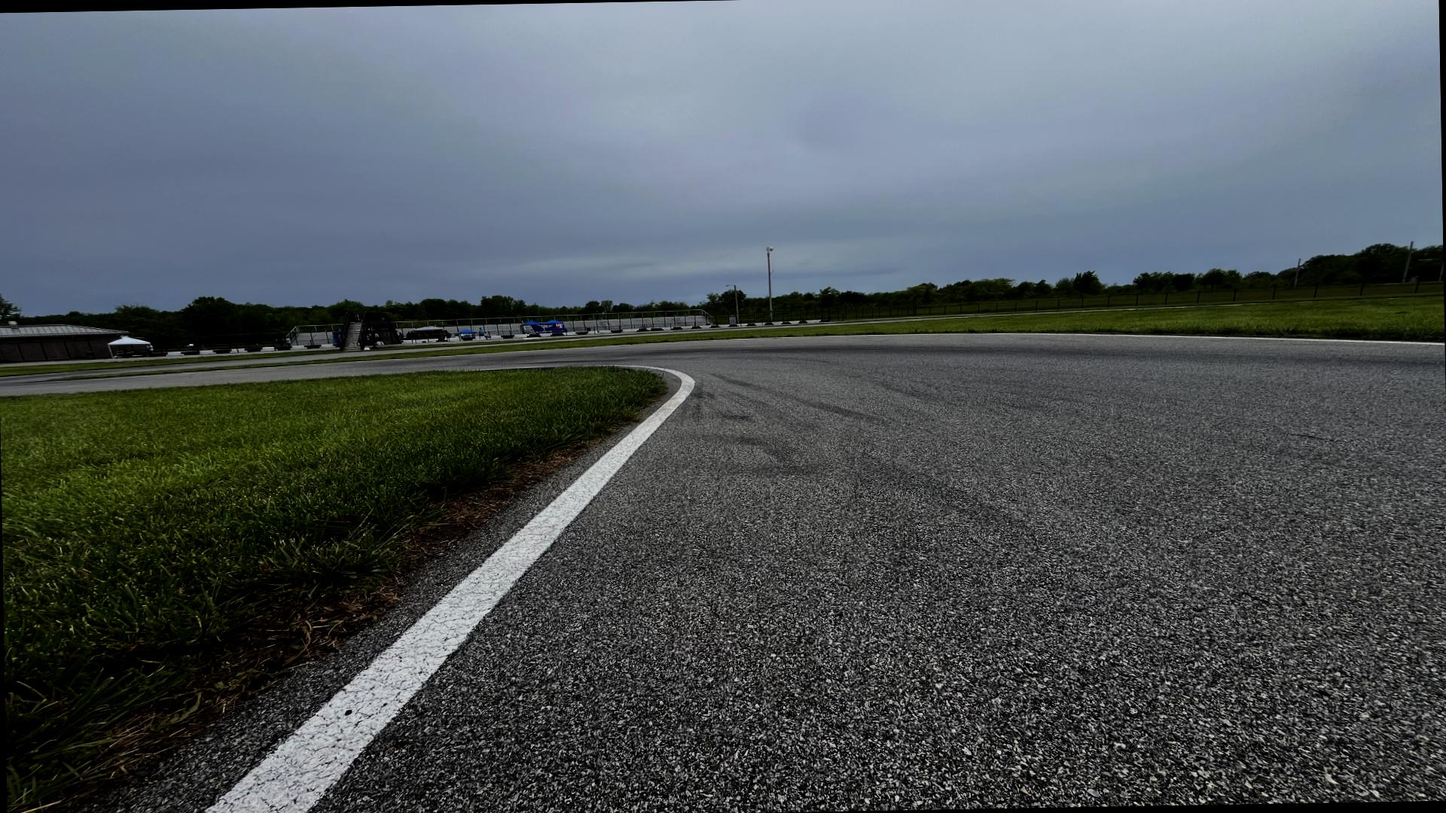white-line: (203, 364, 696, 812), (633, 333, 1444, 346)
